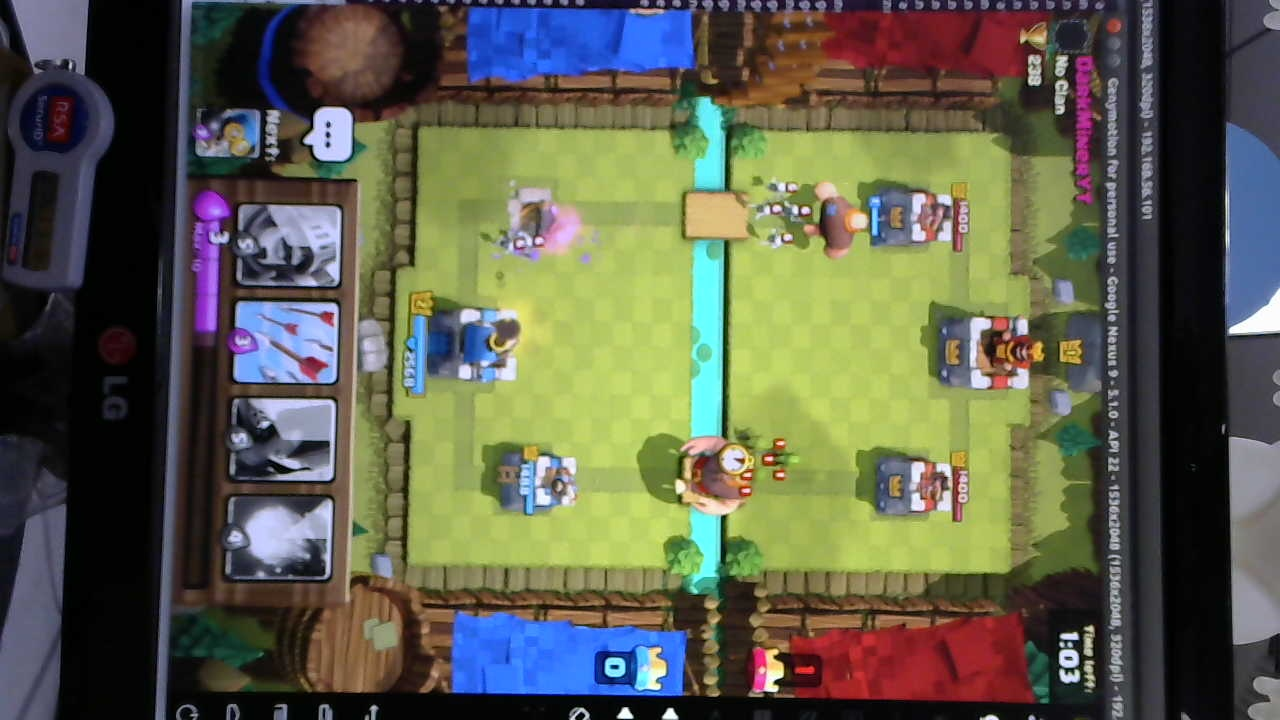goblinsE: (714, 424, 798, 497)
